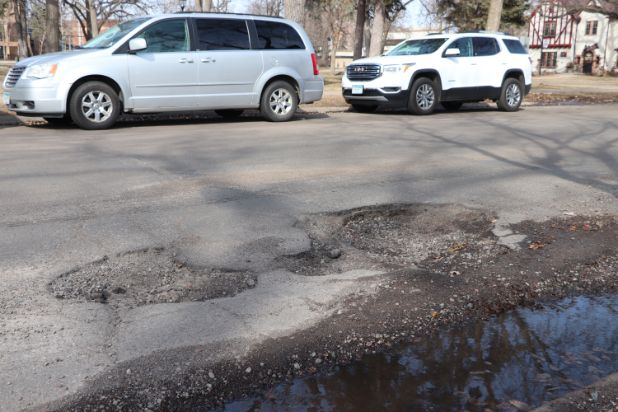pothole: (264, 198, 505, 277), (45, 243, 262, 310)
